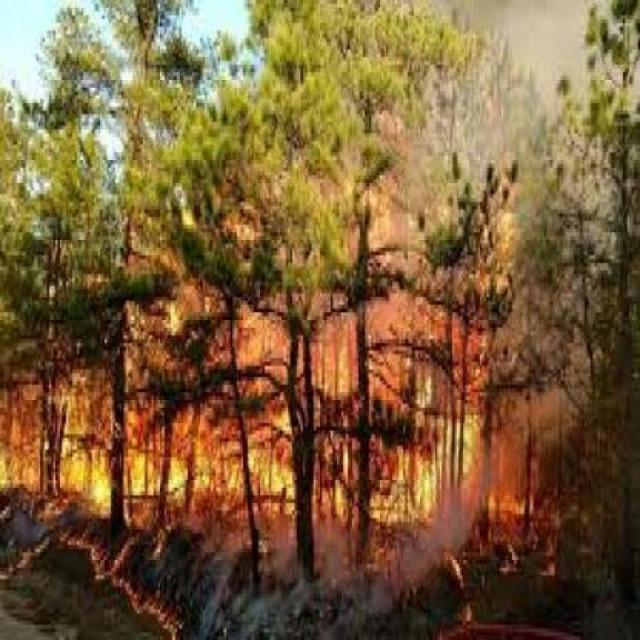Fire: (5, 254, 532, 536)
